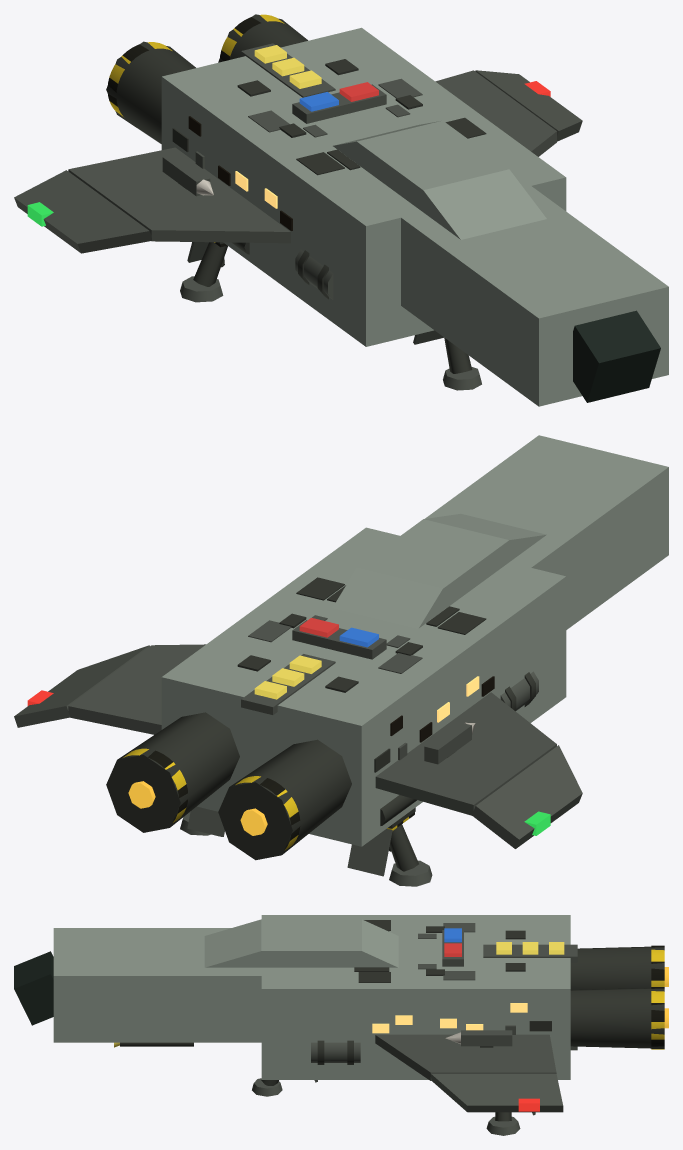
The model's file is police-m.glb.
3 views of the same model, one above another, from view 1: azimuth 30°, elevation 25°; view 2: azimuth 150°, elevation 25°; view 3: azimuth 270°, elevation 25° (orthographic). The views are drawn at different scales.
Visible parts, largest first — view 1: hullMain, hullNose, canopyFairing, wingInnerLeft, cockpitGlass, wingOuterLeft, engineHousing (×2), wingInnerRight, wingOuterRight, gearStrut (×2), gearFoot (×2), lightBarBase (+4 smaller); view 2: hullMain, hullNose, engineHousing (×2), canopyFairing, wingInnerLeft, wingInnerRight, wingOuterLeft, wingOuterRight, gearBayDoor (×2), lightBarBase, iffPlinthDorsal, missileBody (+2 smaller); view 3: hullMain, hullNose, canopyFairing, engineHousing (×2), wingInnerRight, wingOuterRight, cockpitGlass, iffPlinthDorsal, missileBody, gearFoot (×2), policeShipPropellantTankR, lightBarBase (+2 smaller).
Part boxes in pixels (bbox=[...]): hullMain: bbox=[161, 27, 566, 346]; hullNose: bbox=[388, 186, 668, 406]; canopyFairing: bbox=[333, 120, 546, 239]; wingInnerLeft: bbox=[68, 147, 290, 243]; cockpitGlass: bbox=[573, 310, 660, 402]; wingOuterLeft: bbox=[14, 170, 151, 253]; engineHousing (×2): bbox=[106, 14, 307, 143]; wingInnerRight: bbox=[435, 70, 556, 156]; wingOuterRight: bbox=[475, 70, 582, 141]; gearStrut (×2): bbox=[193, 242, 472, 373]; gearFoot (×2): bbox=[180, 276, 481, 390]; lightBarBase: bbox=[292, 84, 386, 123]; hullMain: bbox=[161, 527, 566, 846]; hullNose: bbox=[425, 435, 668, 629]; engineHousing (×2): bbox=[106, 712, 351, 860]; canopyFairing: bbox=[332, 513, 546, 628]; wingInnerLeft: bbox=[375, 692, 556, 815]; wingInnerRight: bbox=[68, 644, 205, 734]; wingOuterLeft: bbox=[472, 745, 582, 848]; wingOuterRight: bbox=[14, 645, 149, 727]; gearBayDoor (×2): bbox=[187, 806, 392, 876]; lightBarBase: bbox=[292, 620, 386, 659]; iffPlinthDorsal: bbox=[241, 654, 335, 714]; missileBody: bbox=[424, 722, 471, 764]; hullMain: bbox=[261, 915, 570, 1079]; hullNose: bbox=[53, 928, 281, 1042]; canopyFairing: bbox=[204, 919, 398, 967]; engineHousing (×2): bbox=[570, 946, 664, 1048]; wingInnerRight: bbox=[375, 1034, 556, 1080]; wingOuterRight: bbox=[430, 1073, 563, 1112]; cockpitGlass: bbox=[14, 951, 53, 1025]; iffPlinthDorsal: bbox=[483, 944, 577, 962]; missileBody: bbox=[461, 1030, 512, 1046]; gearFoot (×2): bbox=[252, 1078, 520, 1135]; policeShipPropellantTankR: bbox=[311, 1042, 360, 1062]; lightBarBase: bbox=[442, 930, 463, 966].
Size of the model in its own units: 3.31 by 1.27 by 4.88.
